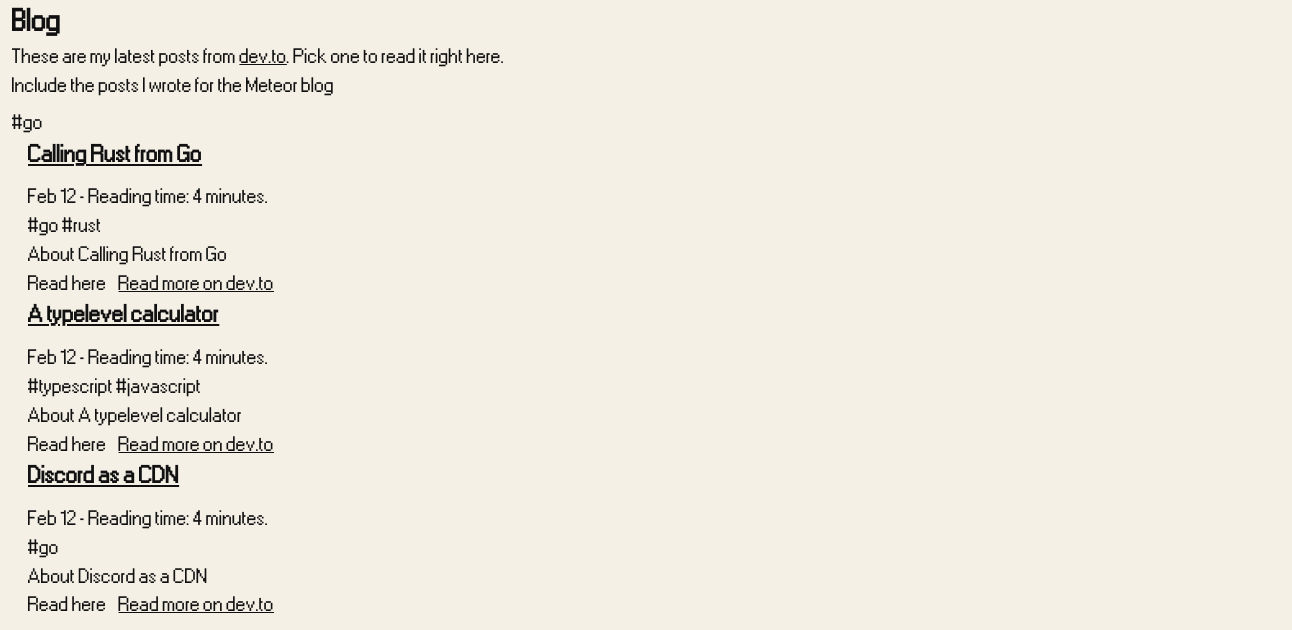
Test: the title opens the post in place too
Step 1. Click the link "Calling Rust from Go" → [115, 154], box [28, 143, 202, 166]
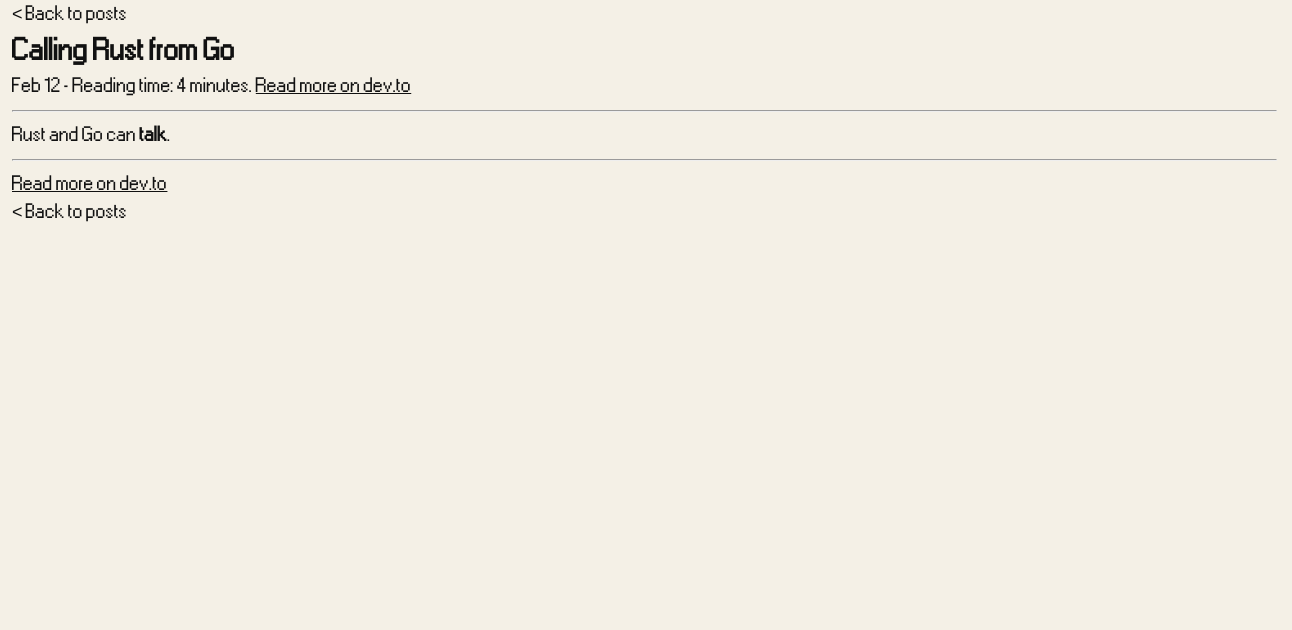
expect the element showing "Rust and Go can talk." is shown: met, box [12, 125, 171, 144]
